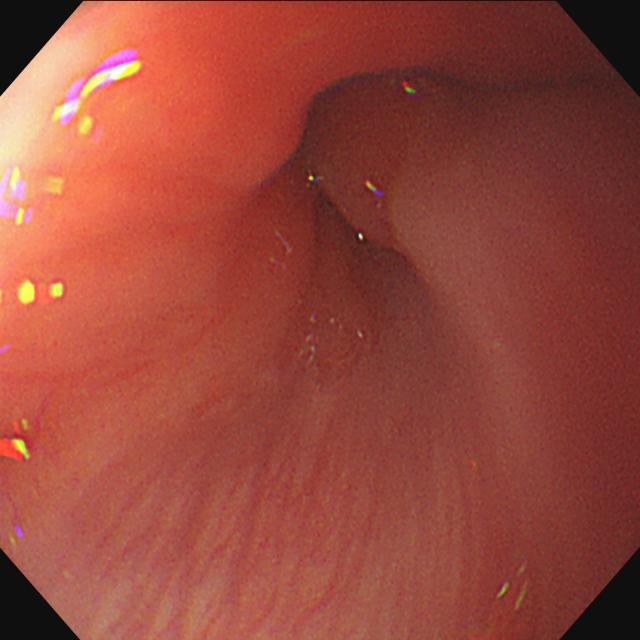U: (53, 57, 145, 122), (18, 278, 68, 308), (2, 419, 31, 466)
